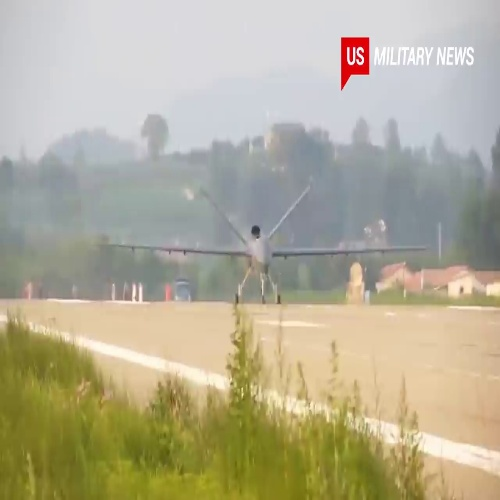uav: (101, 179, 427, 315)
